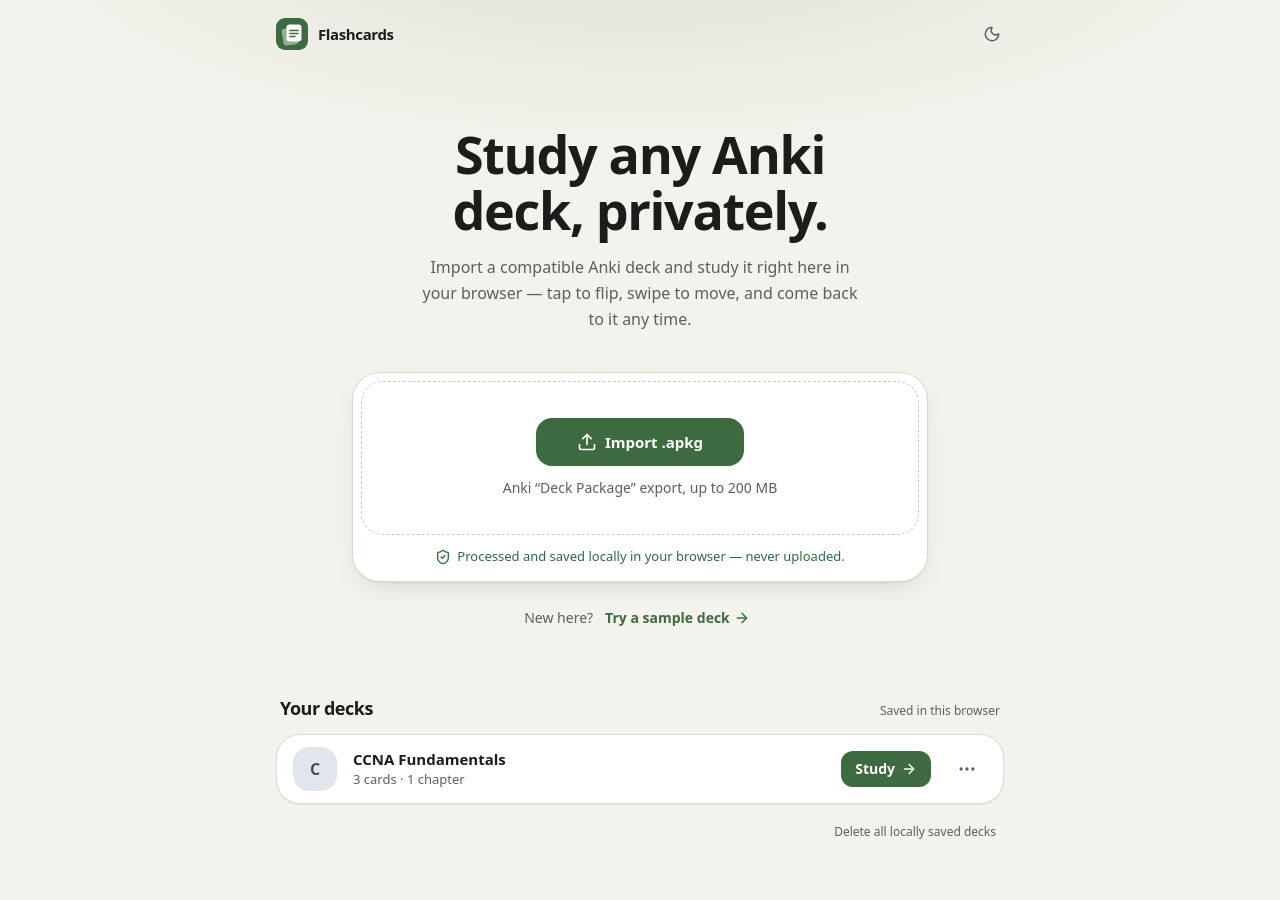
Test: deleting from the library › asks for confirmation, naming what is and is not affected
This screenshot has width=1280, height=900.
Expected: the text "CCNA Fundamentals" is shown, [353,749,506,769]
Click the button named "More actions for CCNA Fundamentals": (967, 769) [947,749,987,789]
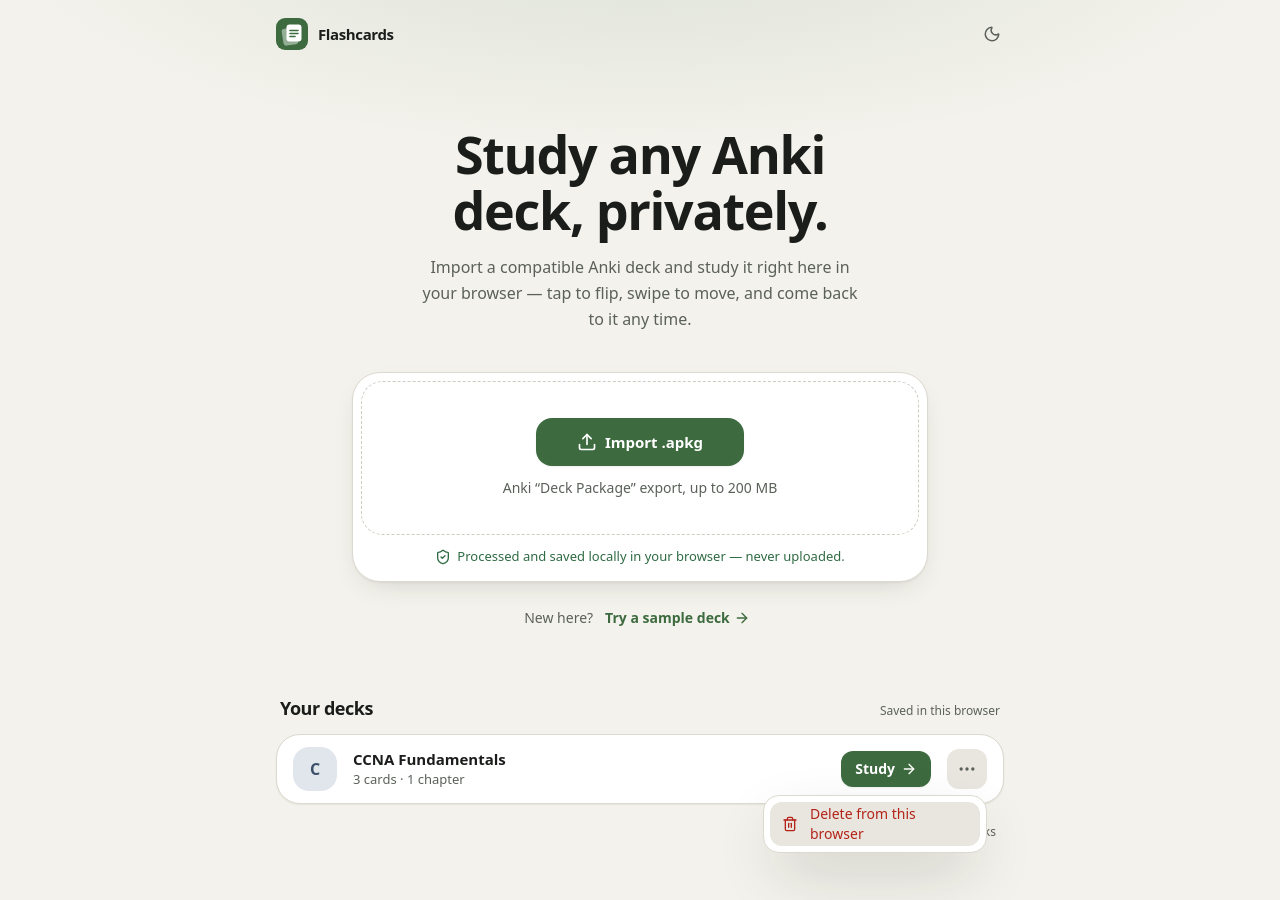
Click the menu item "Delete from this browser": (875, 824) [770,802,980,846]
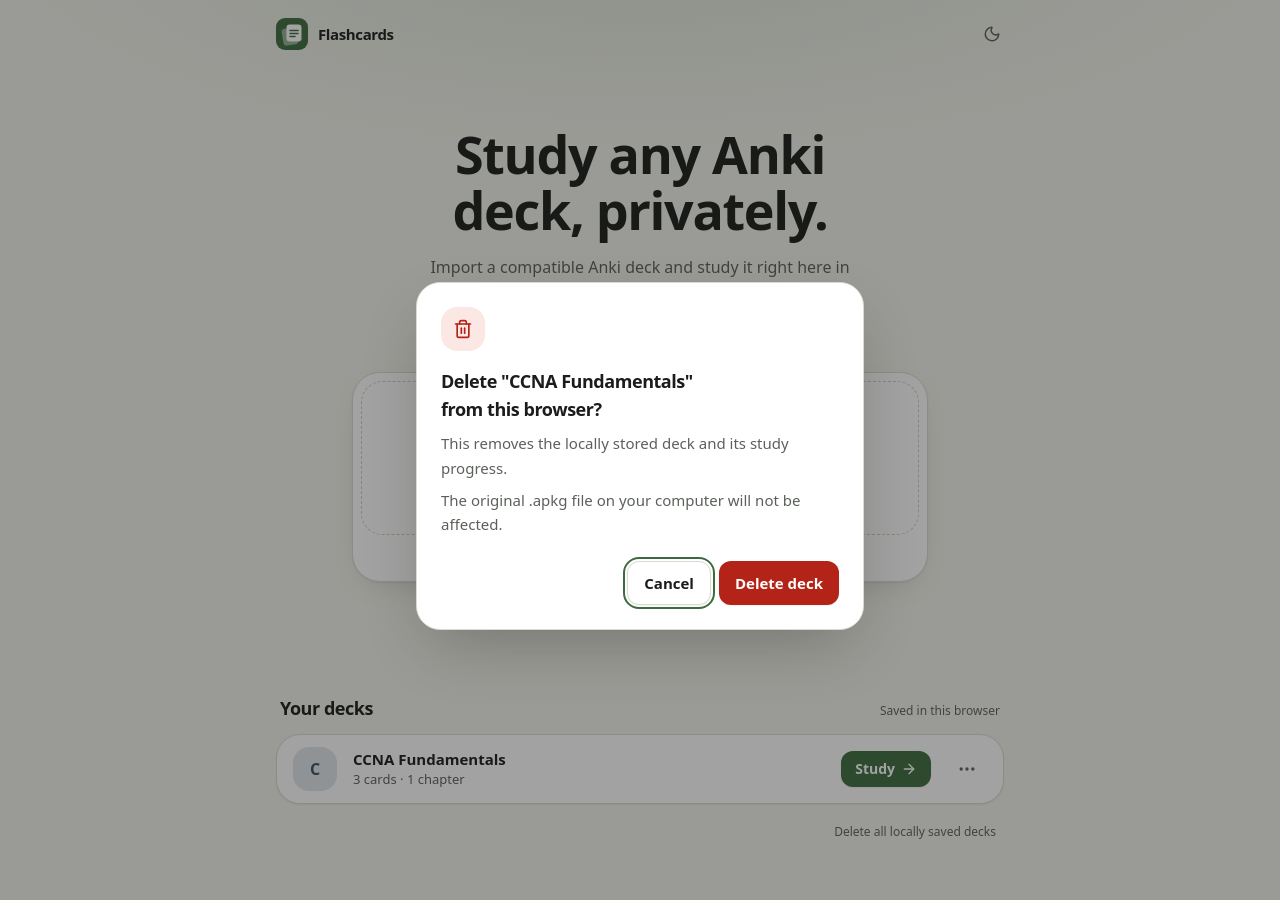
Now the text "This removes the locally stored deck and its study progress." is shown, box [441,431,839,480]
Now the text "original .apkg file on your computer will not be affected" is shown, box [441,490,800,534]
